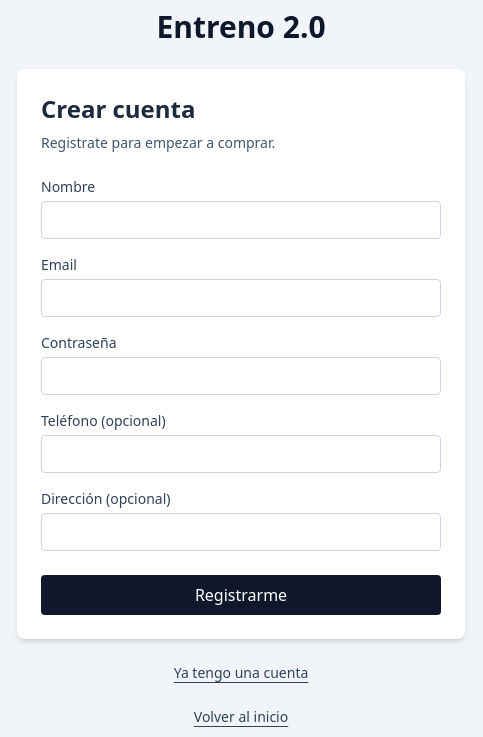
Test: RegisterPage › crea la cuenta con los datos del formulario y ofrece el login sin auto-sesión
In the field labelled "Nombre": point(241, 220) top-left (41, 201), bottom-right (441, 239), type "Ana Cliente"
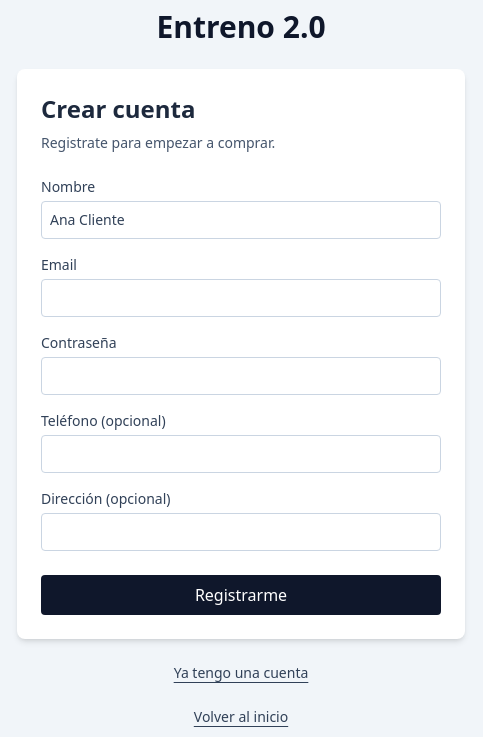
In the field labelled "Email": point(241, 298) top-left (41, 279), bottom-right (441, 317), type "ana@entreno.com.ar"
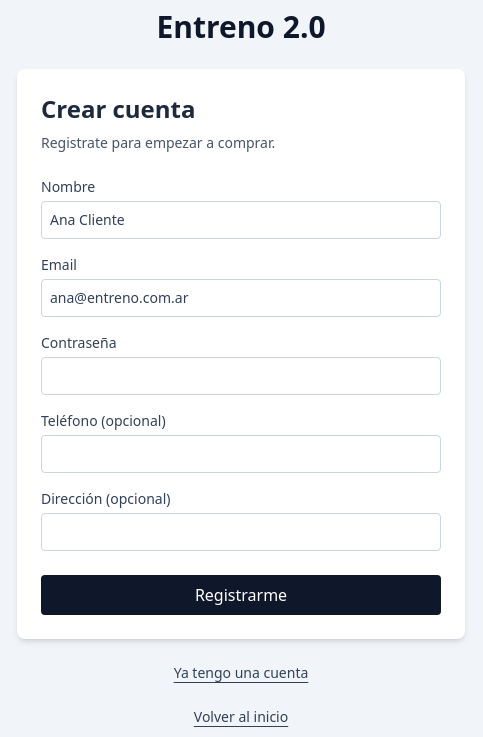
In the password field labelled "Contraseña": point(241, 376) top-left (41, 357), bottom-right (441, 395), type "supersecret1"
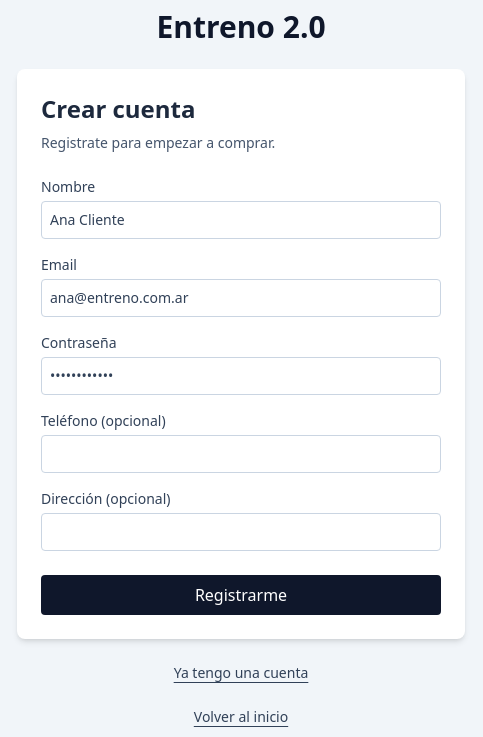
In the field labelled "Teléfono (opcional)": point(241, 454) top-left (41, 435), bottom-right (441, 473), type "1122334455"
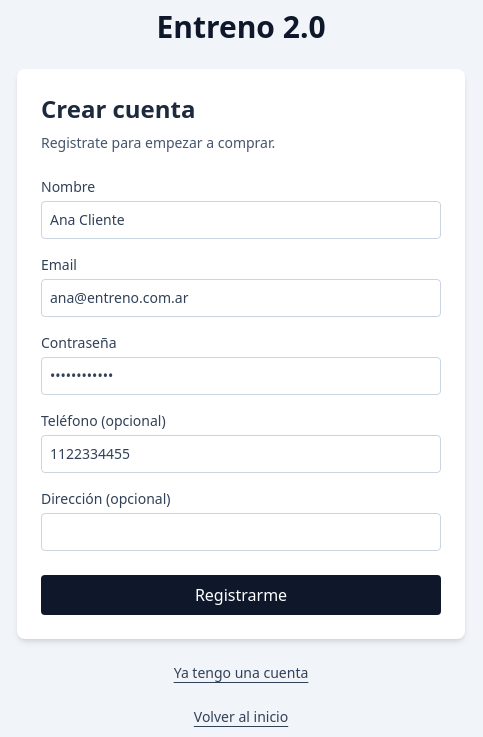
Click the button "Registrarme": point(241, 595) top-left (41, 575), bottom-right (441, 615)
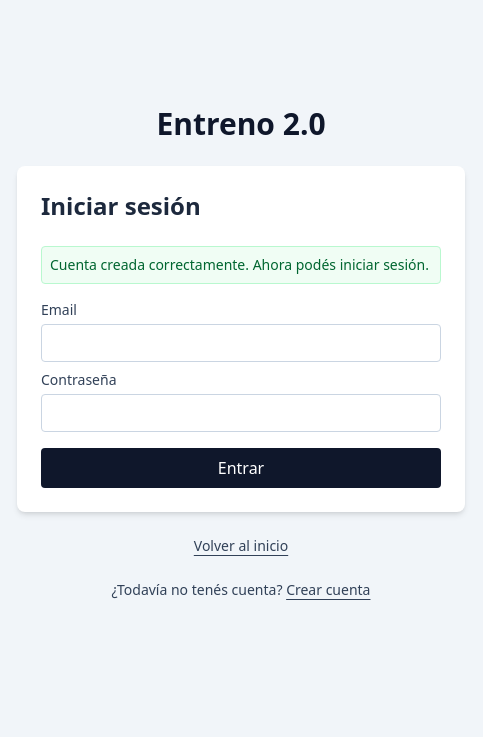
Result: the text "Cuenta creada correctamente. Ahora podés iniciar sesión." is shown at top-left (41, 246), bottom-right (441, 284)
Result: the heading "Iniciar sesión" is shown at top-left (41, 189), bottom-right (201, 222)
